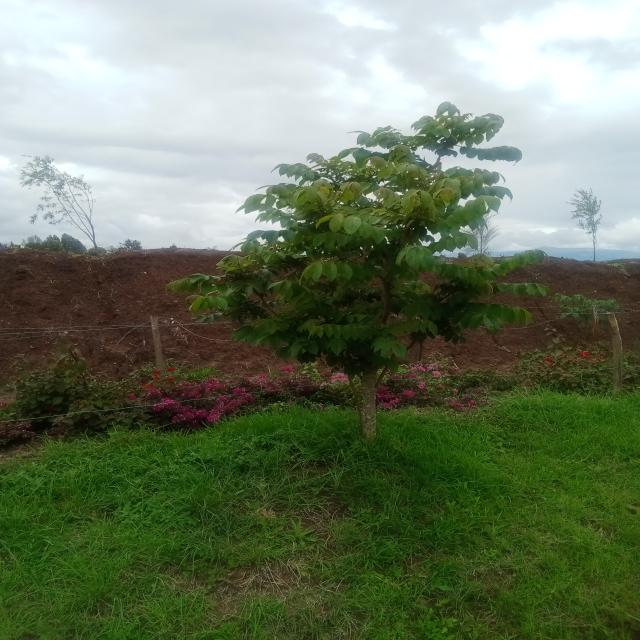Polyscias Kikuyensis: (173, 100, 556, 432)
